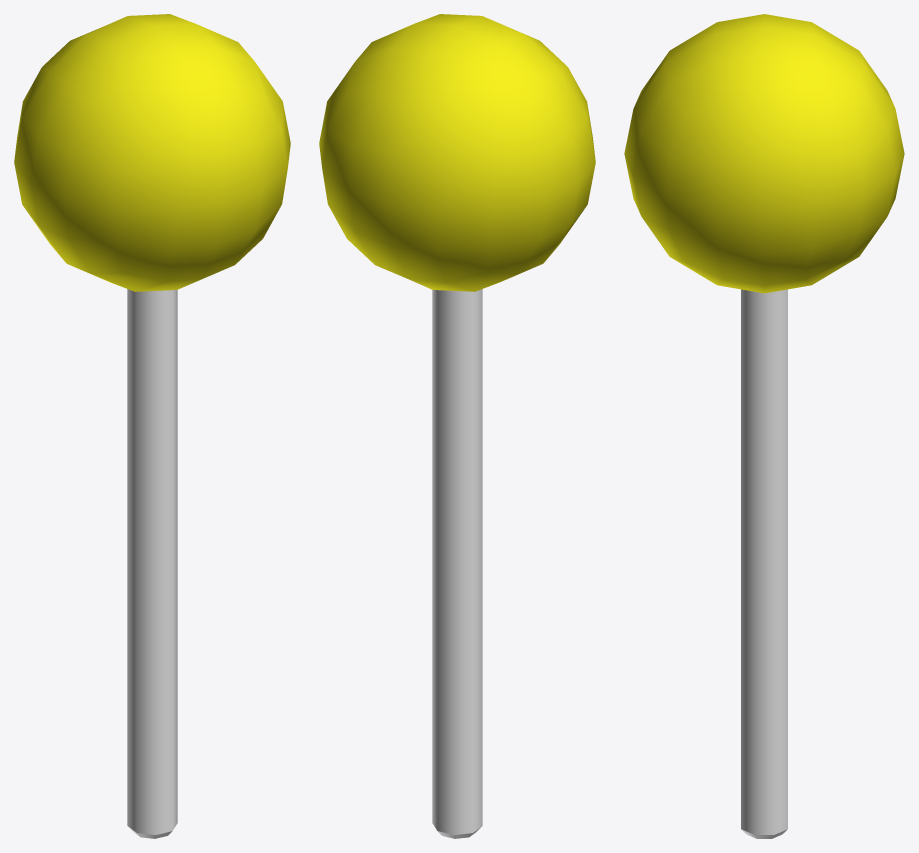
Rendered from Candy_27.fbx.
3 views of the same model, side by side, from view 1: azimuth 30°, elevation 25°; view 2: azimuth 150°, elevation 25°; view 3: azimuth 270°, elevation 25° (orthographic).
Parts seen in each view (by area): view 1: Candy_27; view 2: Candy_27; view 3: Candy_27.
Part boxes in pixels (x1,y1,x2,y2): Candy_27: (14, 14, 290, 838); Candy_27: (319, 14, 595, 838); Candy_27: (624, 14, 904, 838).
Bounding box in the file's own units: 0.8302 × 2.63 × 0.8302.
